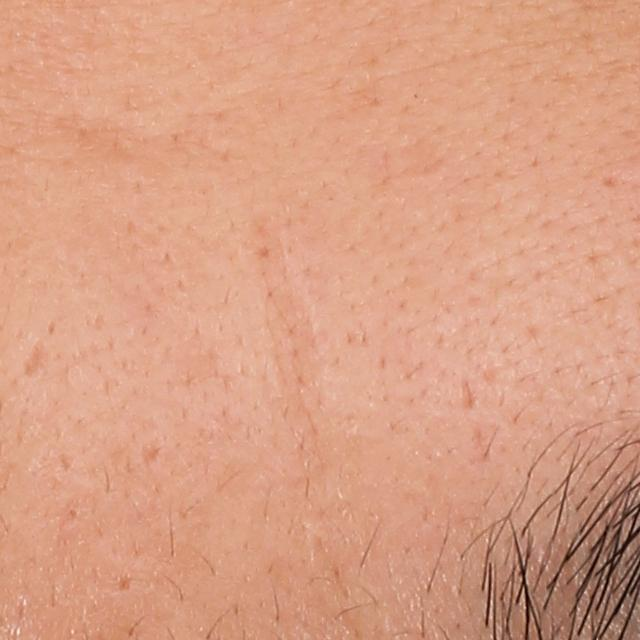atrophic_scar: (21, 336, 54, 382), (459, 375, 481, 412)
